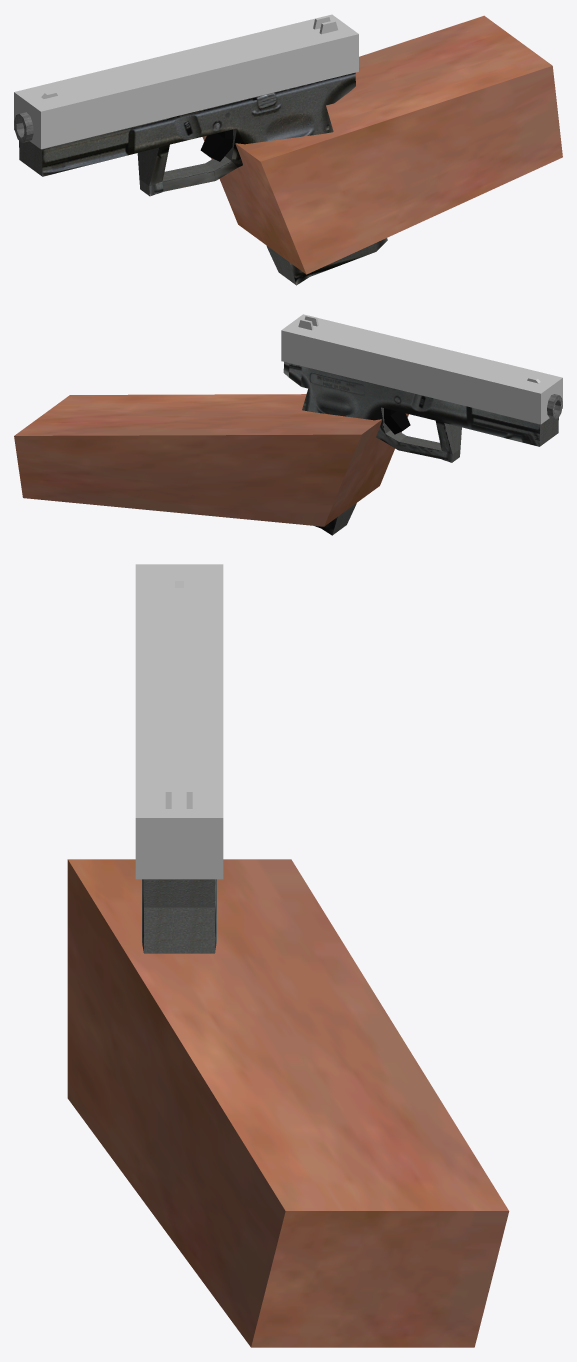
Rendered from pistol_000017.obj.
3 renders of one model, top to bottom at view 1: azimuth 30°, elevation 25°; view 2: azimuth 150°, elevation 25°; view 3: azimuth 270°, elevation 25°, orthographic. The views are drawn at different scales.
Parts seen in each view (by area): view 1: Cube, Cube.001, Cube.003; view 2: Cube, Cube.001, Cube.003; view 3: Cube, Cube.001.
Boxes of the visible parts, x1=… form: Cube: x1=14, y1=15, x2=562, y2=285; Cube.001: x1=14, y1=14, x2=358, y2=149; Cube.003: x1=200, y1=129, x2=233, y2=161; Cube: x1=14, y1=362, x2=562, y2=535; Cube.001: x1=281, y1=314, x2=562, y2=424; Cube.003: x1=384, y1=408, x2=410, y2=434; Cube: x1=67, y1=859, x2=509, y2=1347; Cube.001: x1=135, y1=564, x2=223, y2=879.
Size of the model in its own units: 1.74 by 0.735 by 0.7214.
